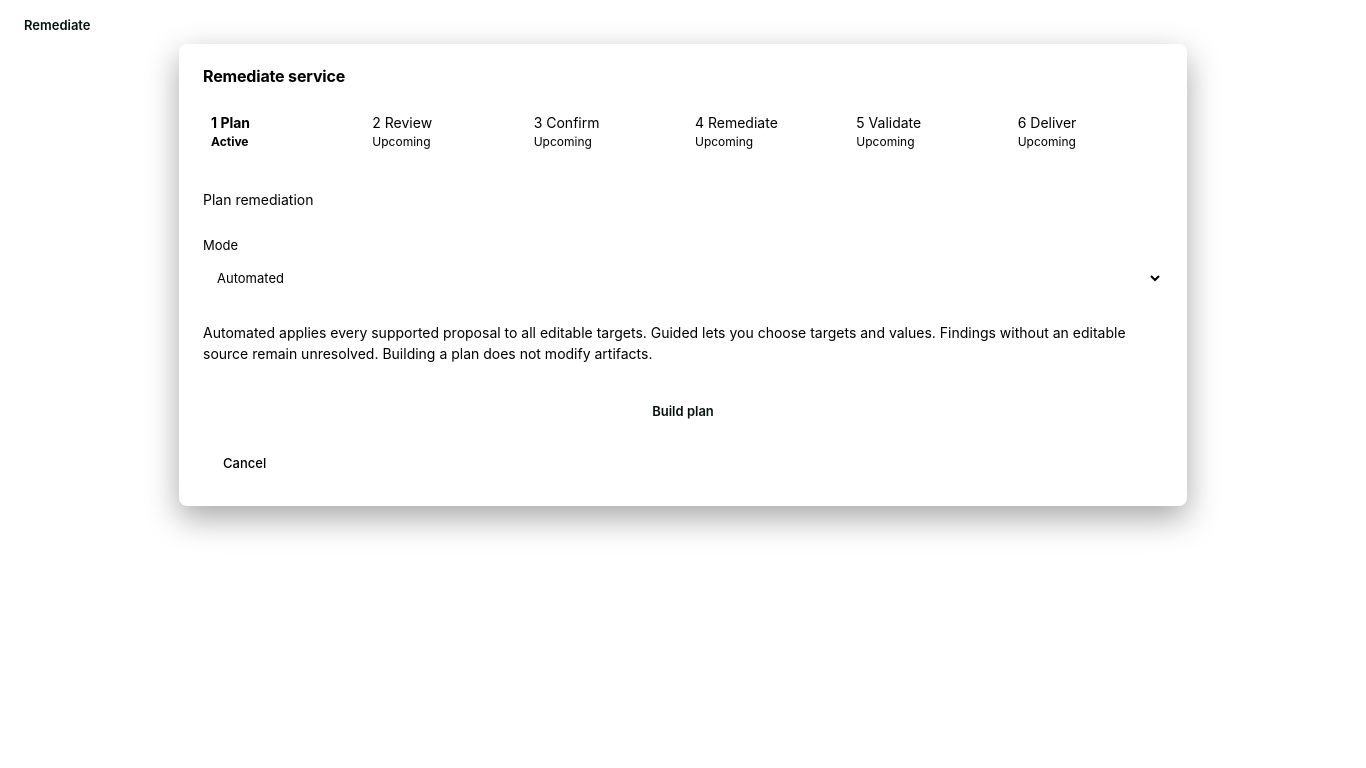
it: remediation decisions › reviews image vulnerability evidence in a separate tab without losing configuration decisions
The image size is (1366, 768).
Select "Guided / Manual" in the dropdown labelled "Mode": (683, 278) [203,260,1163,296]
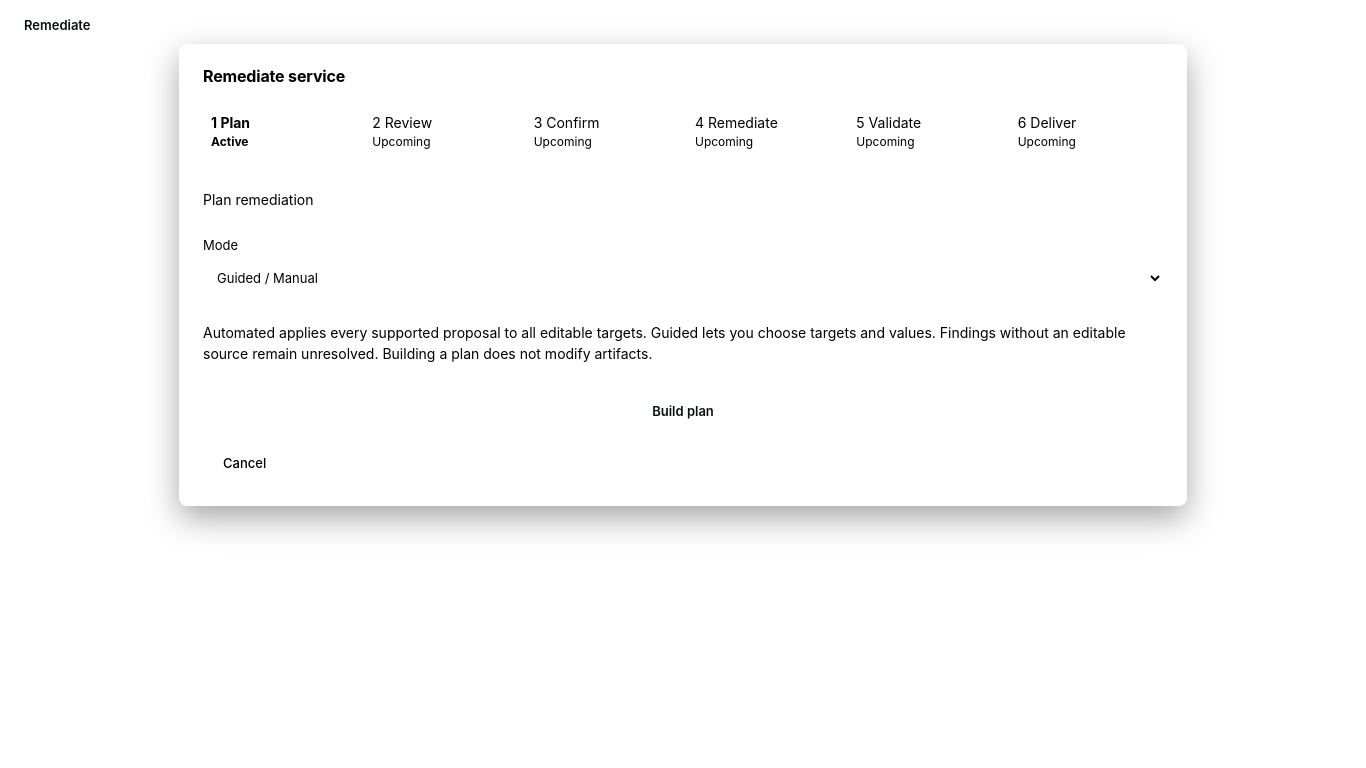
Click the button "Build plan": (683, 412) [207,394,1159,430]
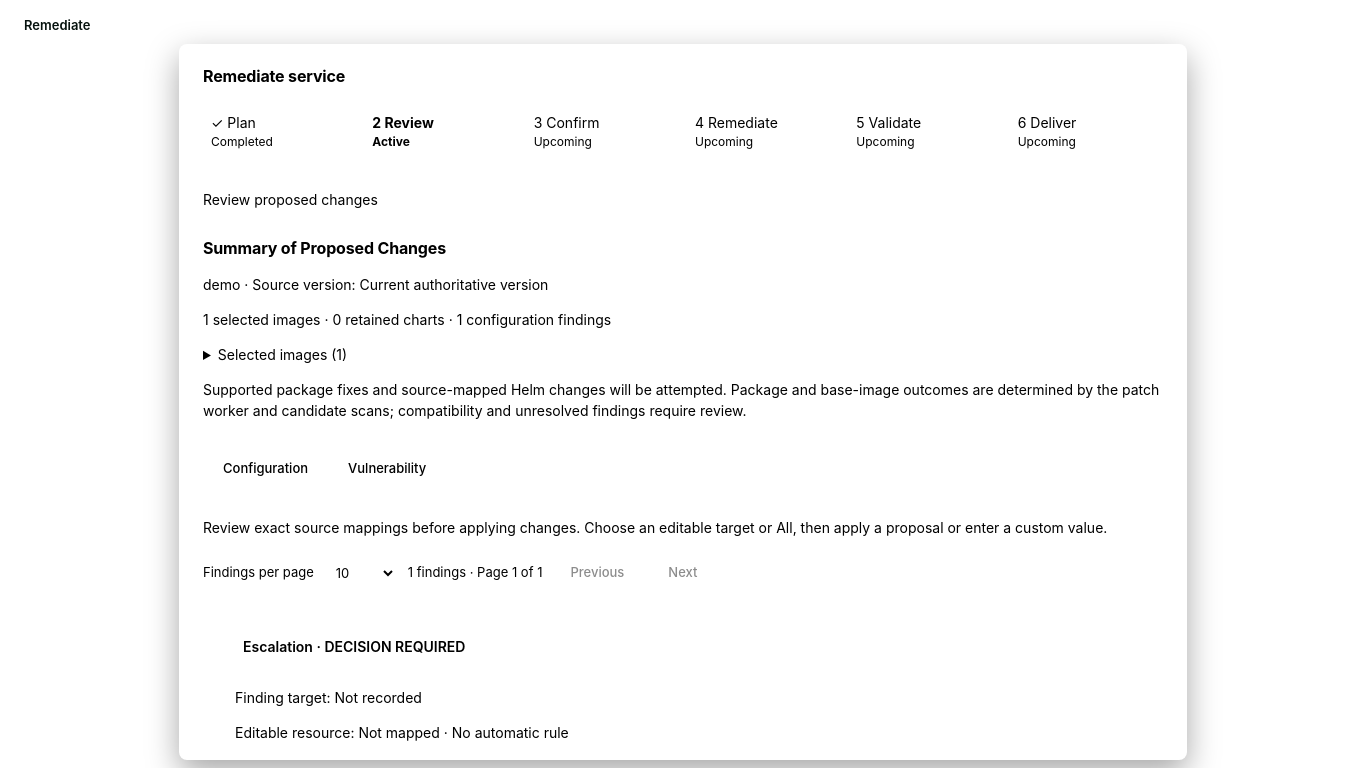
Click the tab "Vulnerability": (387, 469) [332,451,442,487]
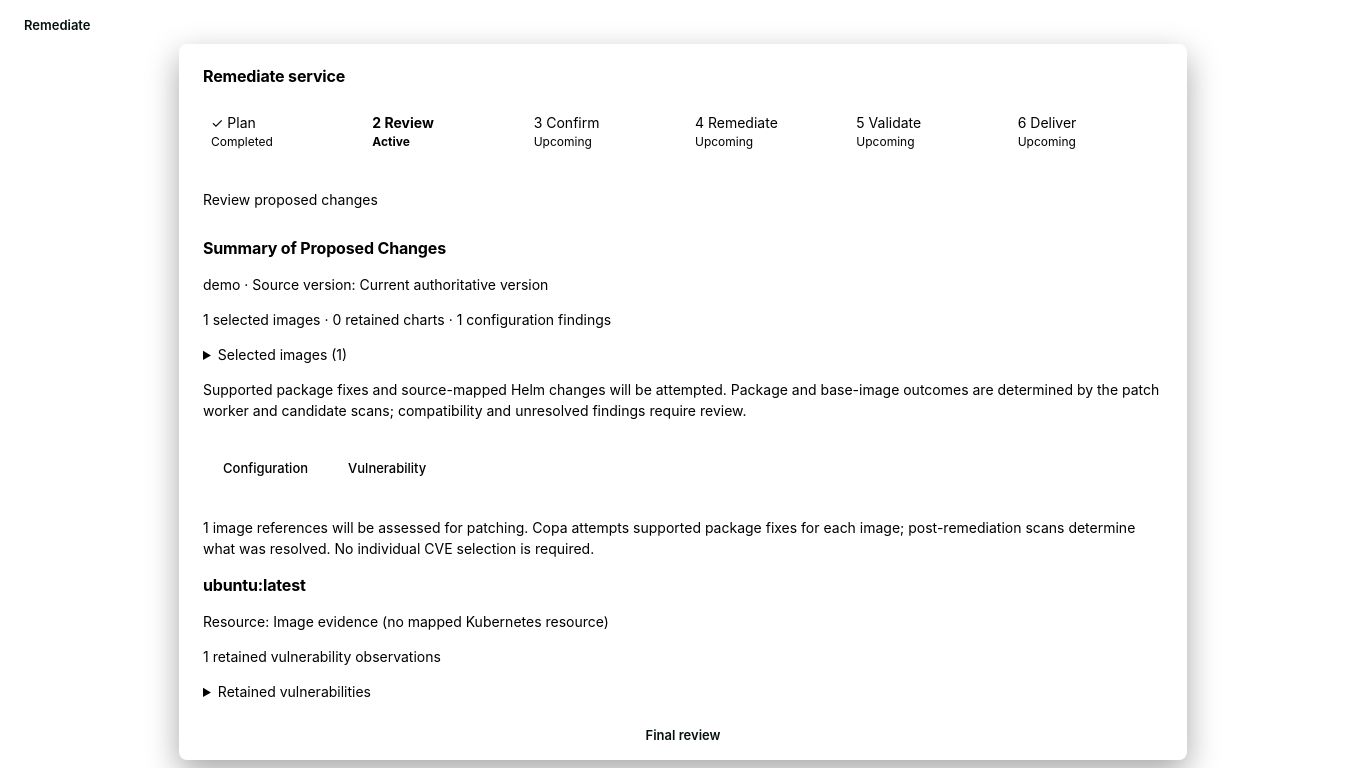
Check: the heading "ubuntu:latest" is shown, box [203,575,306,595]
Check: the text "Copa attempts supported package fixes" is shown, box [203,519,1135,557]
Click the heading "Retained vulnerabilities": (294, 692) [218,683,371,700]
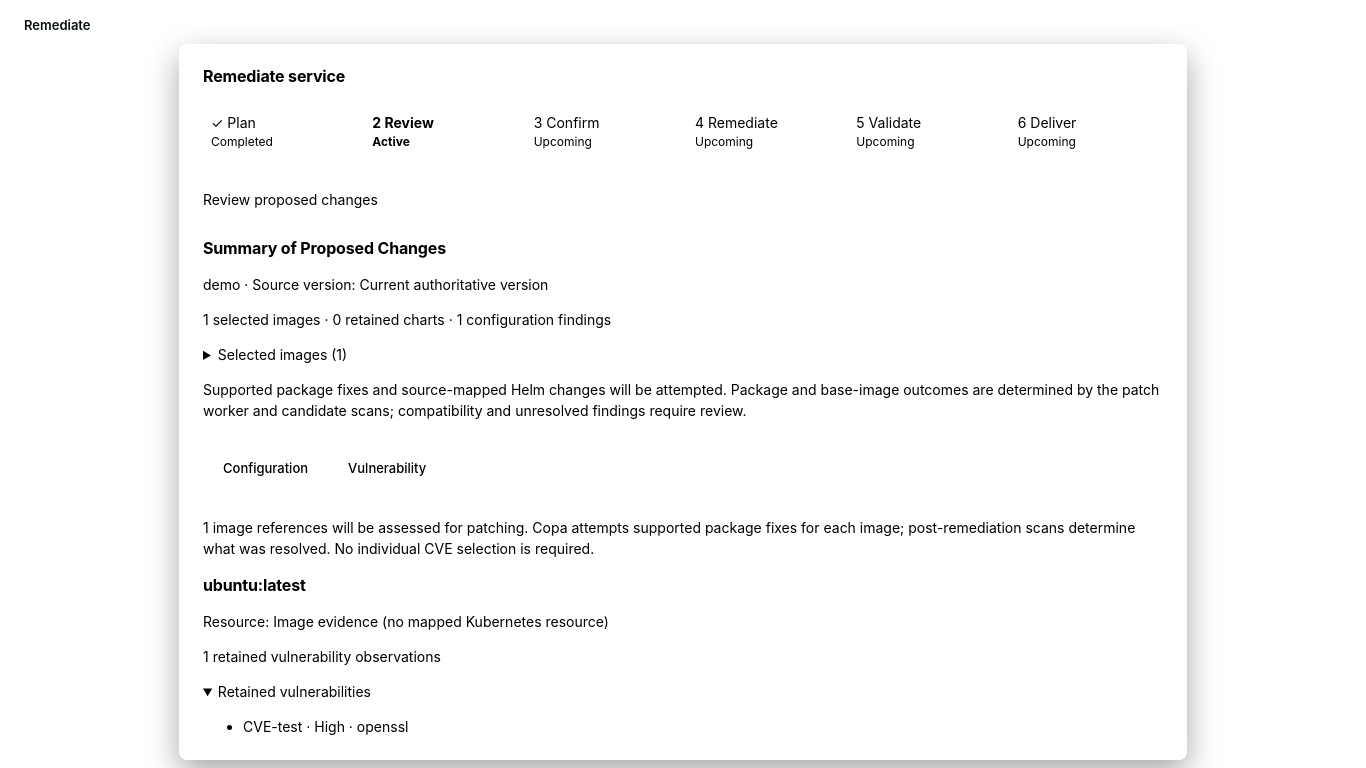
Check: the list item "CVE-test · High · openssl" is shown, box [243,718,408,735]
Click the tab "Configuration": (266, 469) [207,451,324,487]
(page scrolled)
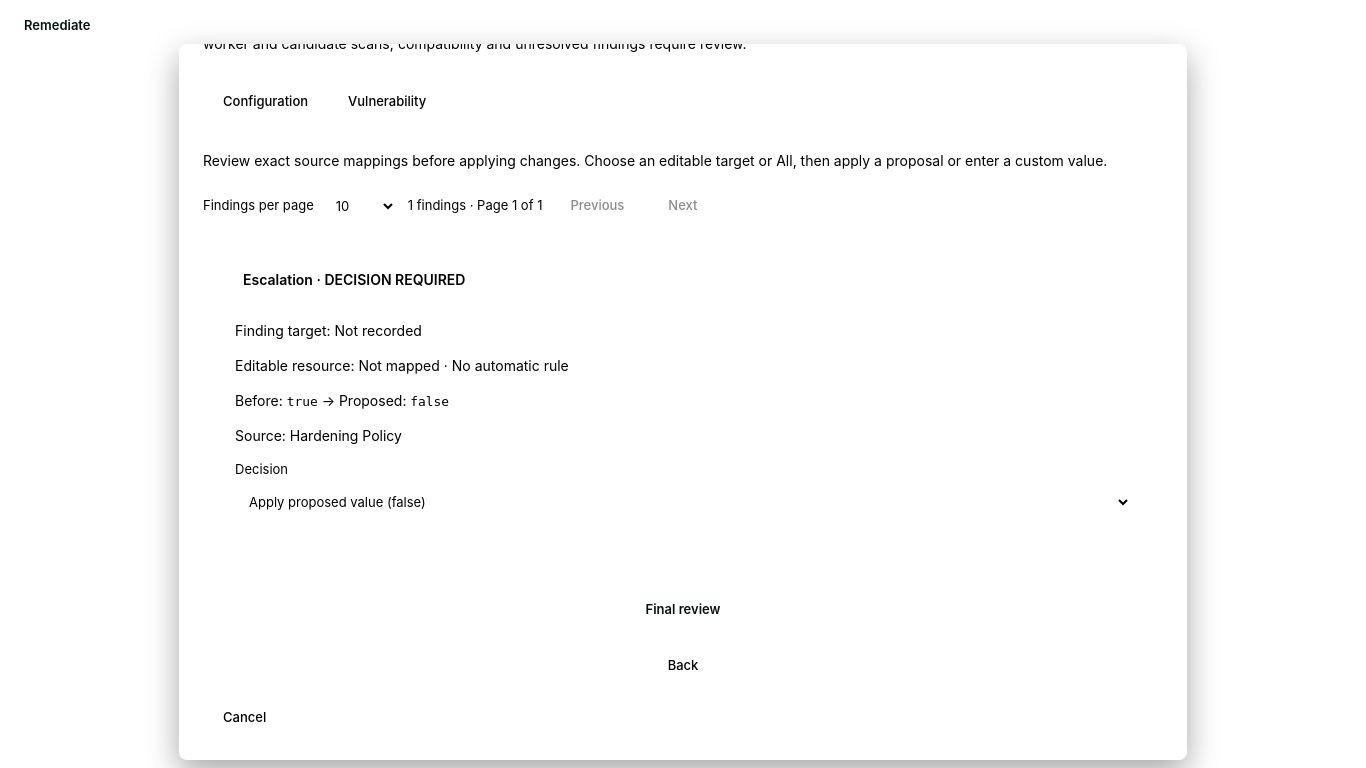
Check: the dropdown labelled "Decision" shows "Apply proposed value (false)", box [235,484,1131,520]
